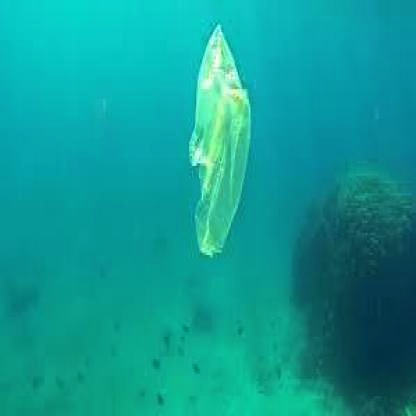pbag: (181, 10, 257, 272)
